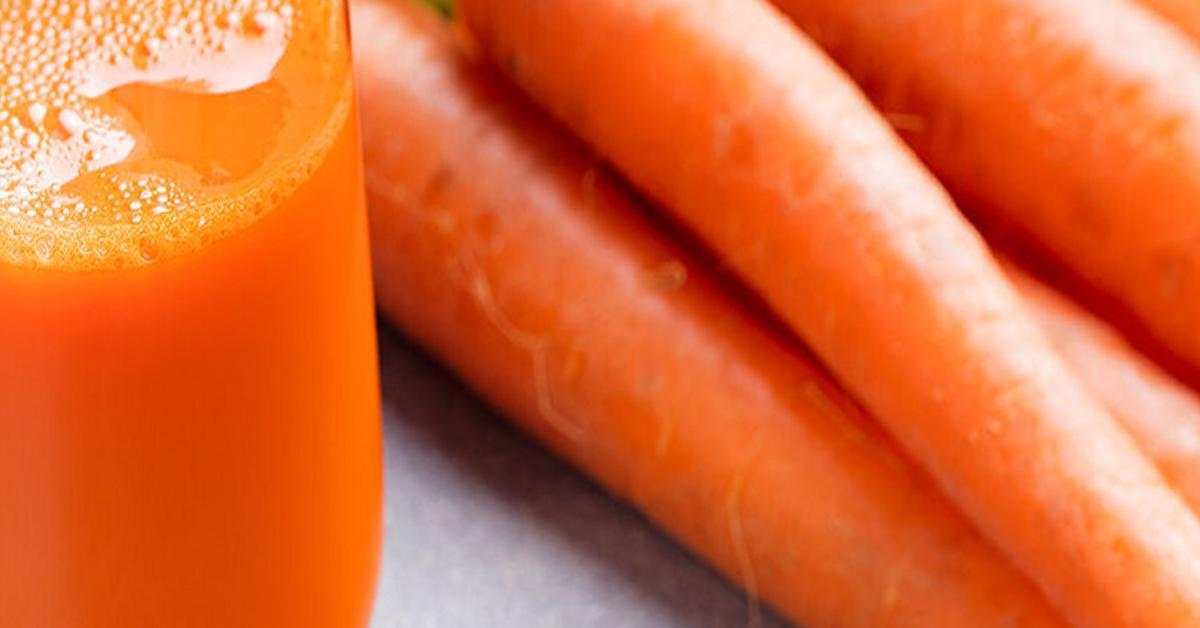carrot: (363, 4, 1200, 618)
